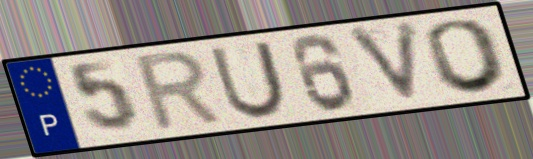5: (62, 57, 147, 139)
6: (289, 32, 358, 116)
O: (422, 16, 514, 96)
R: (131, 47, 229, 136)
U: (206, 38, 290, 121)
V: (342, 17, 425, 109)
